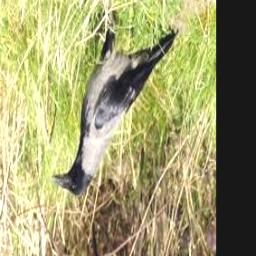Crow: (52, 12, 179, 196)
